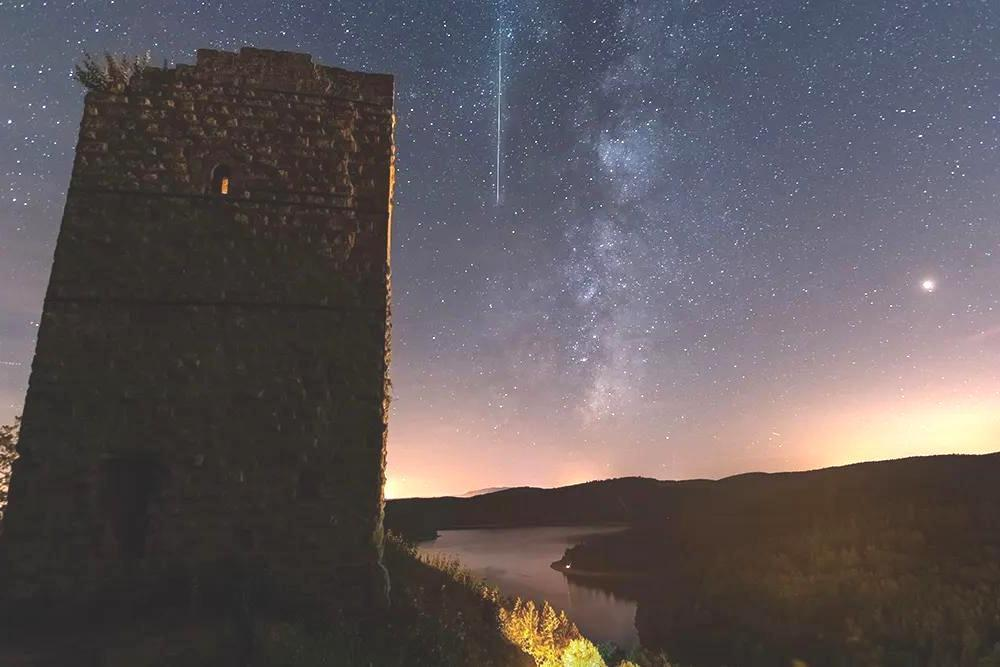meteorite: (489, 24, 507, 210)
